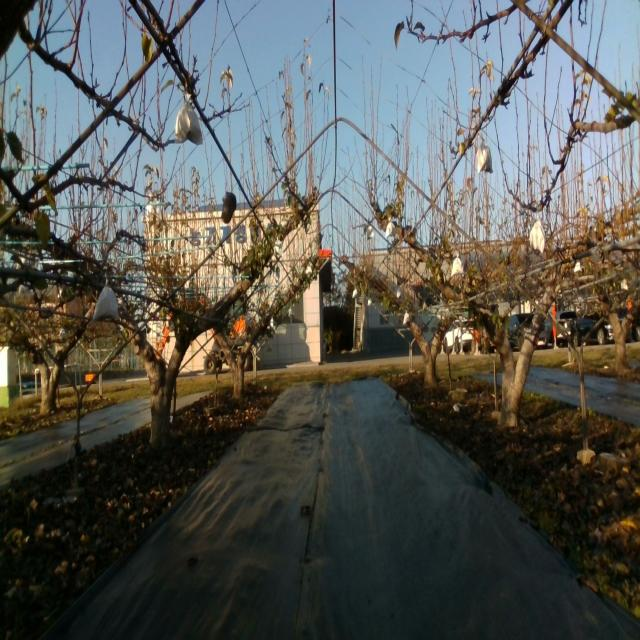pearbags: (174, 92, 203, 146), (93, 278, 120, 323), (478, 131, 493, 174), (530, 221, 546, 259), (452, 253, 464, 277)
